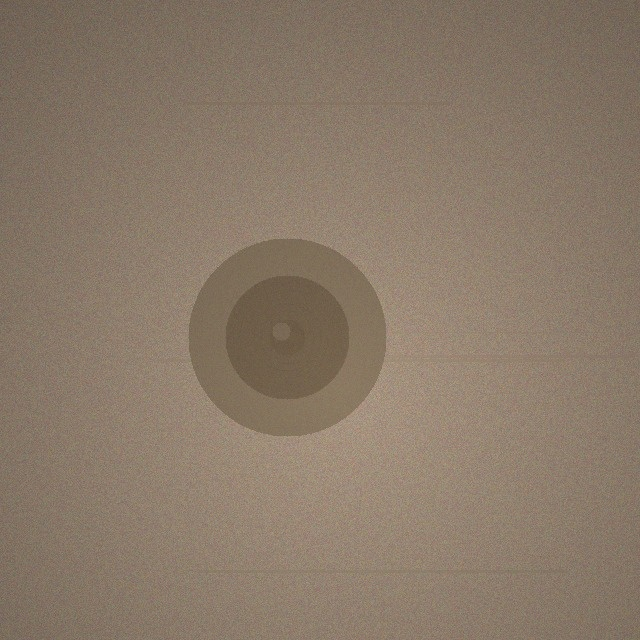good: (188, 238, 386, 436)
